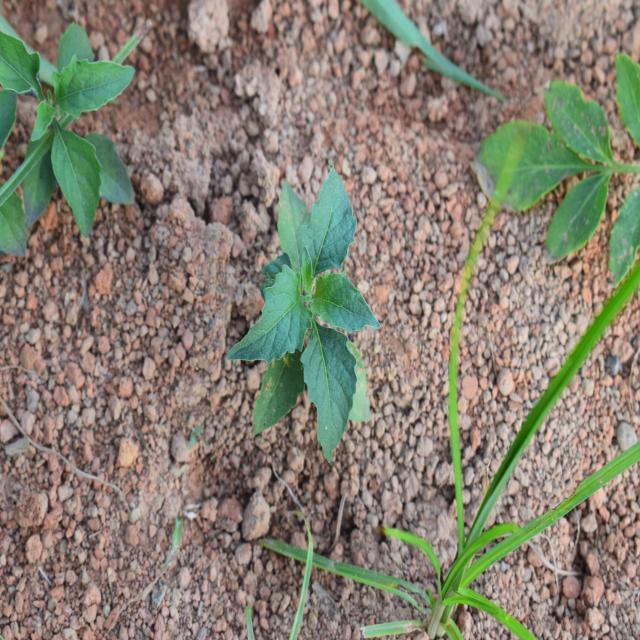Black_nightshade: (244, 146, 370, 440), (0, 6, 152, 232)
